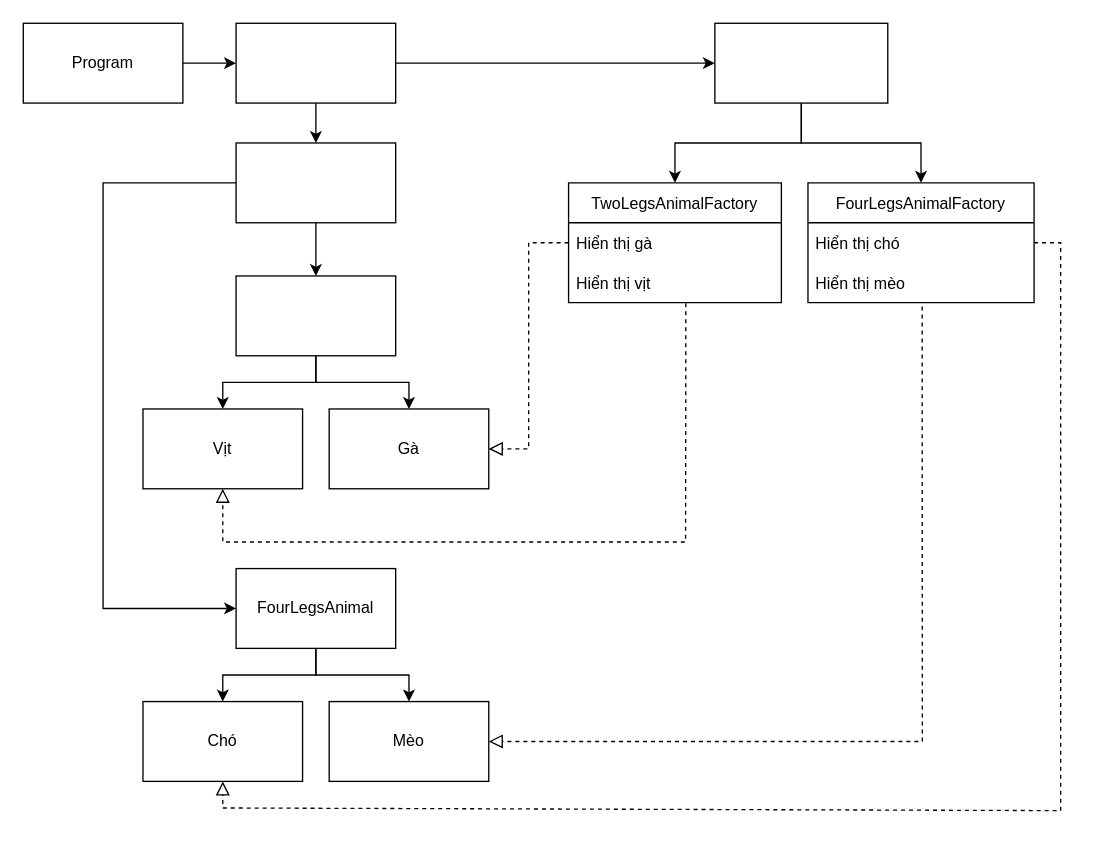
Some shapes in this 1097 by 847 pixel diagram are drawn without their labels. Each missing label, with the centre of its shape:
AbstracAnimalFactory: (801,62)
IAnimal: (315,182)
IAnimalFactory: (315,62)
TwoLegsAnimal: (315,315)
